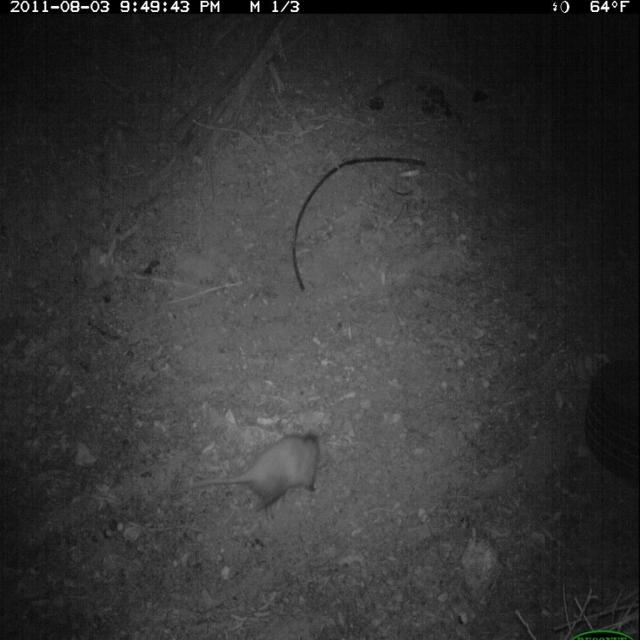opossum: (174, 426, 324, 511)
